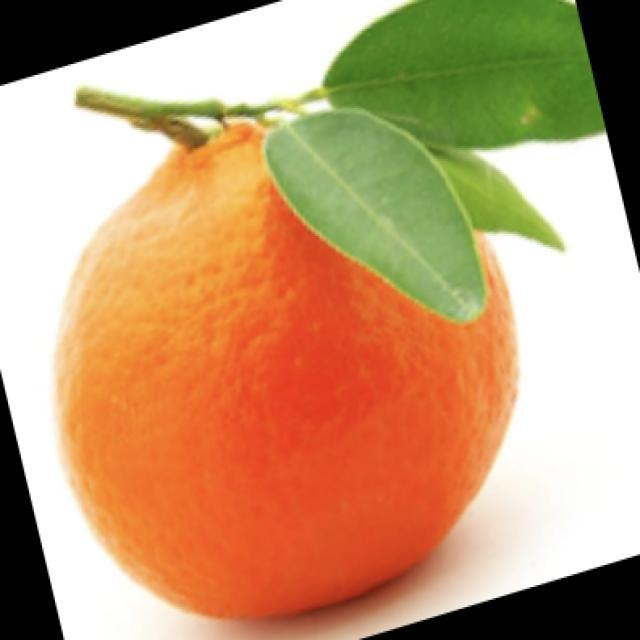Orange: (52, 116, 520, 621)
